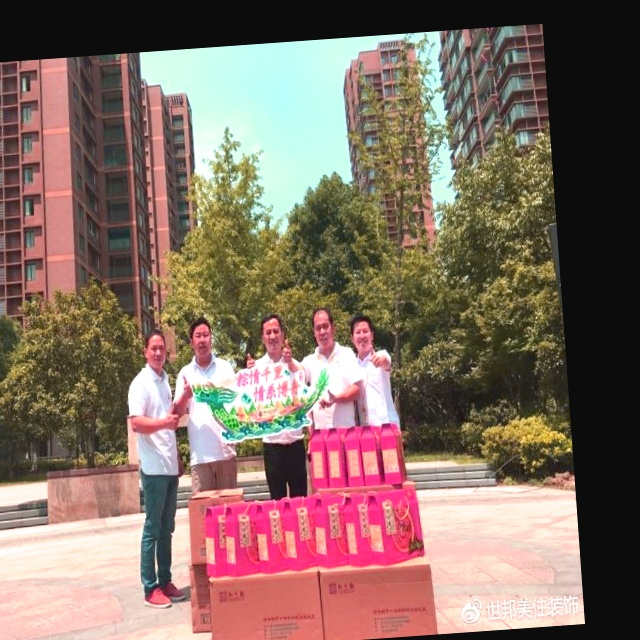Sin_Casco_Mascarrilla: (144, 327, 168, 374), (349, 312, 375, 355), (189, 316, 214, 360), (310, 307, 336, 349), (260, 313, 285, 356)
